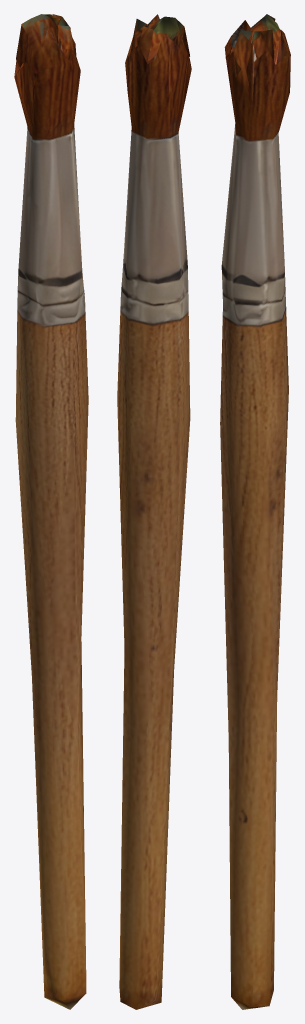
Rendered from paintbrush+3d+model.fbx.
3 renders of one model, left to right at view 1: azimuth 30°, elevation 25°; view 2: azimuth 210°, elevation 25°; view 3: azimuth 270°, elevation 25°, orthographic.
Visible parts, largest first — view 1: tripo_node_3d841b49; view 2: tripo_node_3d841b49; view 3: tripo_node_3d841b49.
Boxes of the visible parts, bbox=[...] form: tripo_node_3d841b49: bbox=[14, 14, 88, 1009]; tripo_node_3d841b49: bbox=[117, 14, 191, 1009]; tripo_node_3d841b49: bbox=[220, 14, 290, 1009].
Bounding box in the file's own units: 0.0668 × 0.9928 × 0.0646.
Materials: 1 (1 with a texture image).
